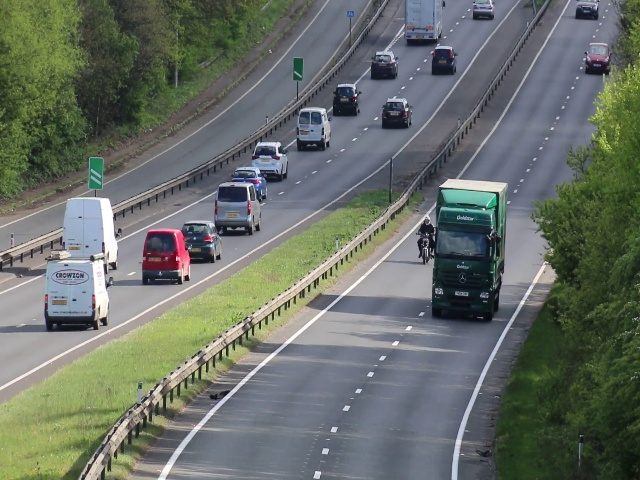car: (434, 203, 494, 320), (42, 257, 111, 327), (59, 199, 121, 267), (141, 228, 191, 285), (215, 182, 259, 235), (179, 221, 223, 263), (250, 139, 291, 180), (295, 108, 332, 149), (406, 1, 439, 43), (230, 168, 268, 198), (381, 97, 412, 129), (331, 84, 361, 114), (430, 44, 459, 75), (584, 42, 609, 74), (371, 49, 398, 78), (471, 1, 495, 19), (576, 1, 599, 19)
